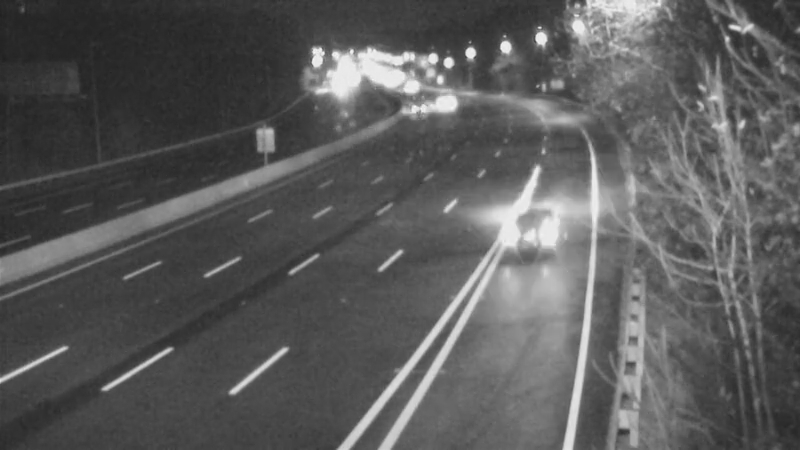vehicle: (474, 190, 554, 270), (414, 72, 464, 122), (392, 78, 442, 128)
